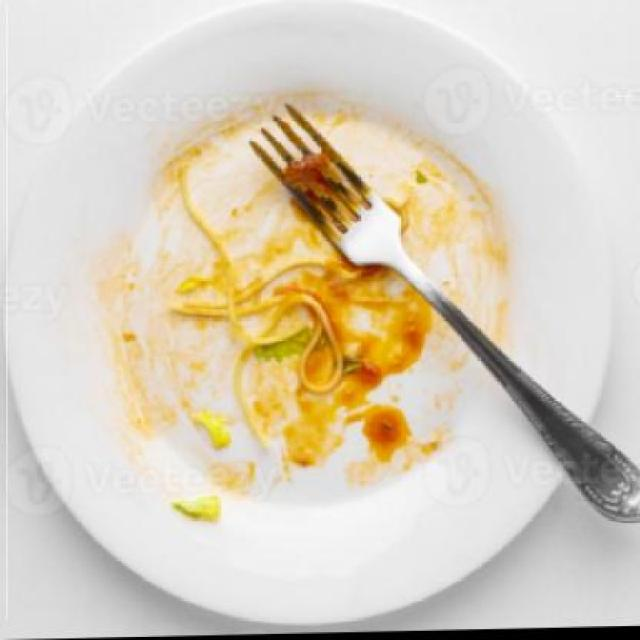Plate: (6, 0, 617, 621)
